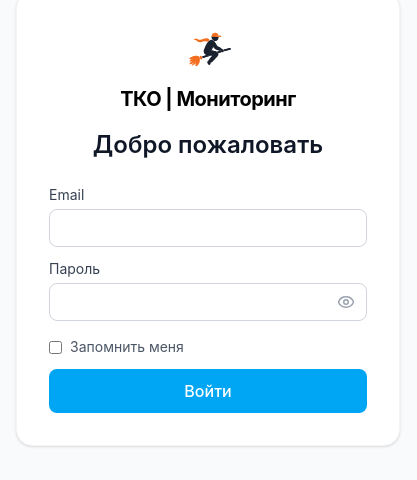
it: LoginPage › surfaces API errors in the form
This screenshot has width=417, height=480.
In the field labelled "Email": (208, 228) [49,209,367,247], type "u@x.test"
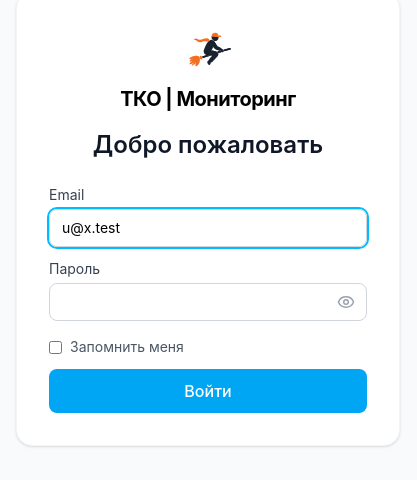
In the password field labelled "Пароль": (208, 302) [49,283,367,321], type "wrong"
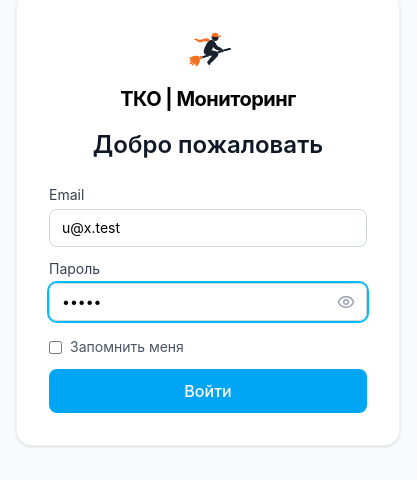
Click the button "Войти": (208, 391) [49,369,367,413]
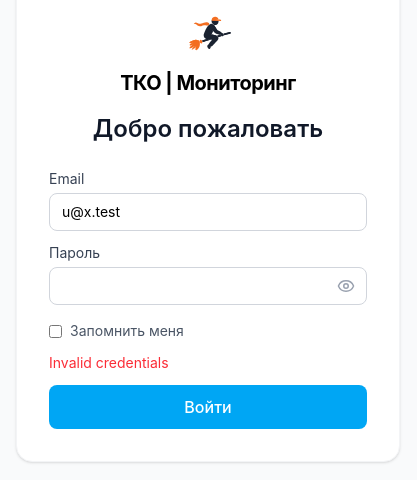
Now the text "Invalid credentials" is shown, box [49,354,169,371]
